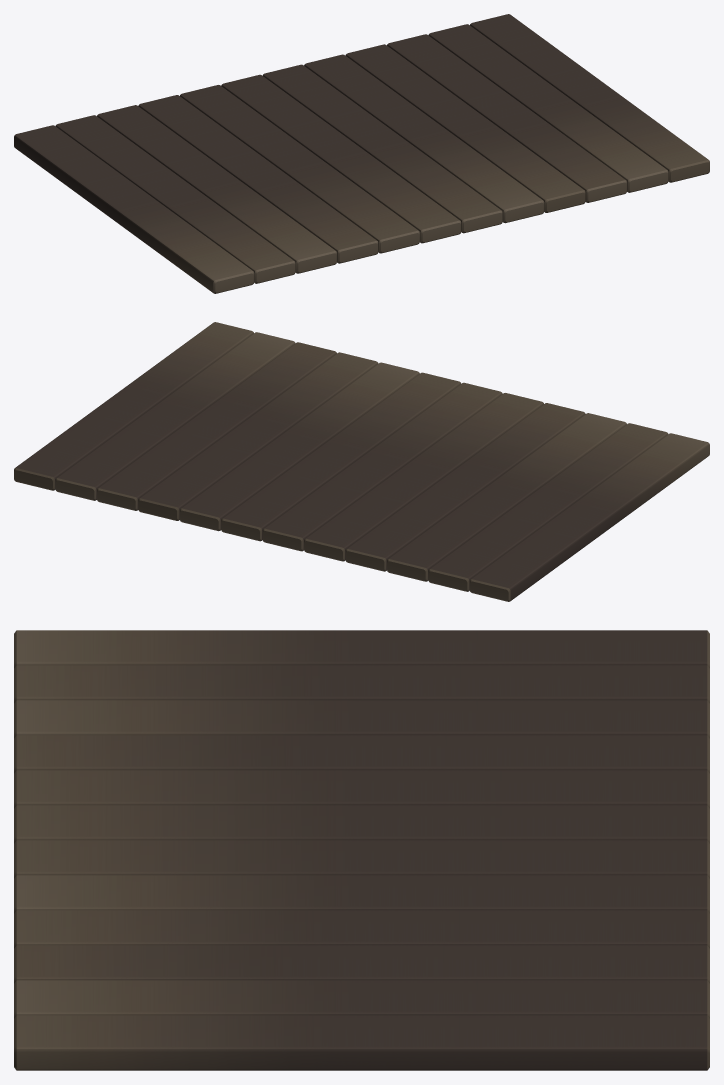
Rendered from Planks.fbx.
3 renders of one model, top to bottom at view 1: azimuth 30°, elevation 25°; view 2: azimuth 150°, elevation 25°; view 3: azimuth 270°, elevation 25°, orthographic. The views are drawn at different scales.
Parts seen in each view (by area): view 1: polySurface9, polySurface16, polySurface11, polySurface15, polySurface19, polySurface14, polySurface18, polySurface12, polySurface17, polySurface13, polySurface20, polySurface10; view 2: polySurface9, polySurface16, polySurface11, polySurface15, polySurface19, polySurface14, polySurface18, polySurface12, polySurface17, polySurface13, polySurface20, polySurface10; view 3: polySurface20, polySurface16, polySurface19, polySurface14, polySurface18, polySurface12, polySurface13, polySurface15, polySurface17, polySurface11, polySurface10, polySurface9.
Part boxes in pixels (x1,y1,x2,y2): polySurface9: [14, 125, 254, 293]; polySurface16: [304, 54, 544, 223]; polySurface11: [97, 105, 336, 273]; polySurface15: [262, 64, 502, 233]; polySurface19: [428, 24, 668, 192]; polySurface14: [221, 74, 461, 243]; polySurface18: [387, 34, 626, 202]; polySurface12: [138, 95, 378, 263]; polySurface17: [345, 44, 585, 212]; polySurface13: [180, 85, 419, 253]; polySurface20: [470, 14, 709, 182]; polySurface10: [55, 115, 295, 283]; polySurface9: [469, 433, 709, 601]; polySurface16: [179, 362, 419, 531]; polySurface11: [387, 413, 626, 581]; polySurface15: [221, 372, 461, 541]; polySurface19: [55, 332, 295, 500]; polySurface14: [262, 382, 502, 551]; polySurface18: [97, 342, 336, 510]; polySurface12: [345, 403, 585, 571]; polySurface17: [138, 352, 378, 520]; polySurface13: [304, 393, 543, 561]; polySurface20: [14, 322, 253, 490]; polySurface10: [428, 423, 668, 591]; polySurface20: [14, 1015, 709, 1070]; polySurface16: [14, 875, 709, 913]; polySurface19: [14, 980, 709, 1018]; polySurface14: [14, 805, 709, 843]; polySurface18: [14, 945, 709, 983]; polySurface12: [14, 735, 709, 773]; polySurface13: [14, 770, 709, 808]; polySurface15: [14, 840, 709, 878]; polySurface17: [14, 910, 709, 948]; polySurface11: [14, 700, 709, 737]; polySurface10: [14, 665, 709, 702]; polySurface9: [14, 630, 709, 667].
Size of the model in its own units: 12.13 by 0.3244 by 8.5.
